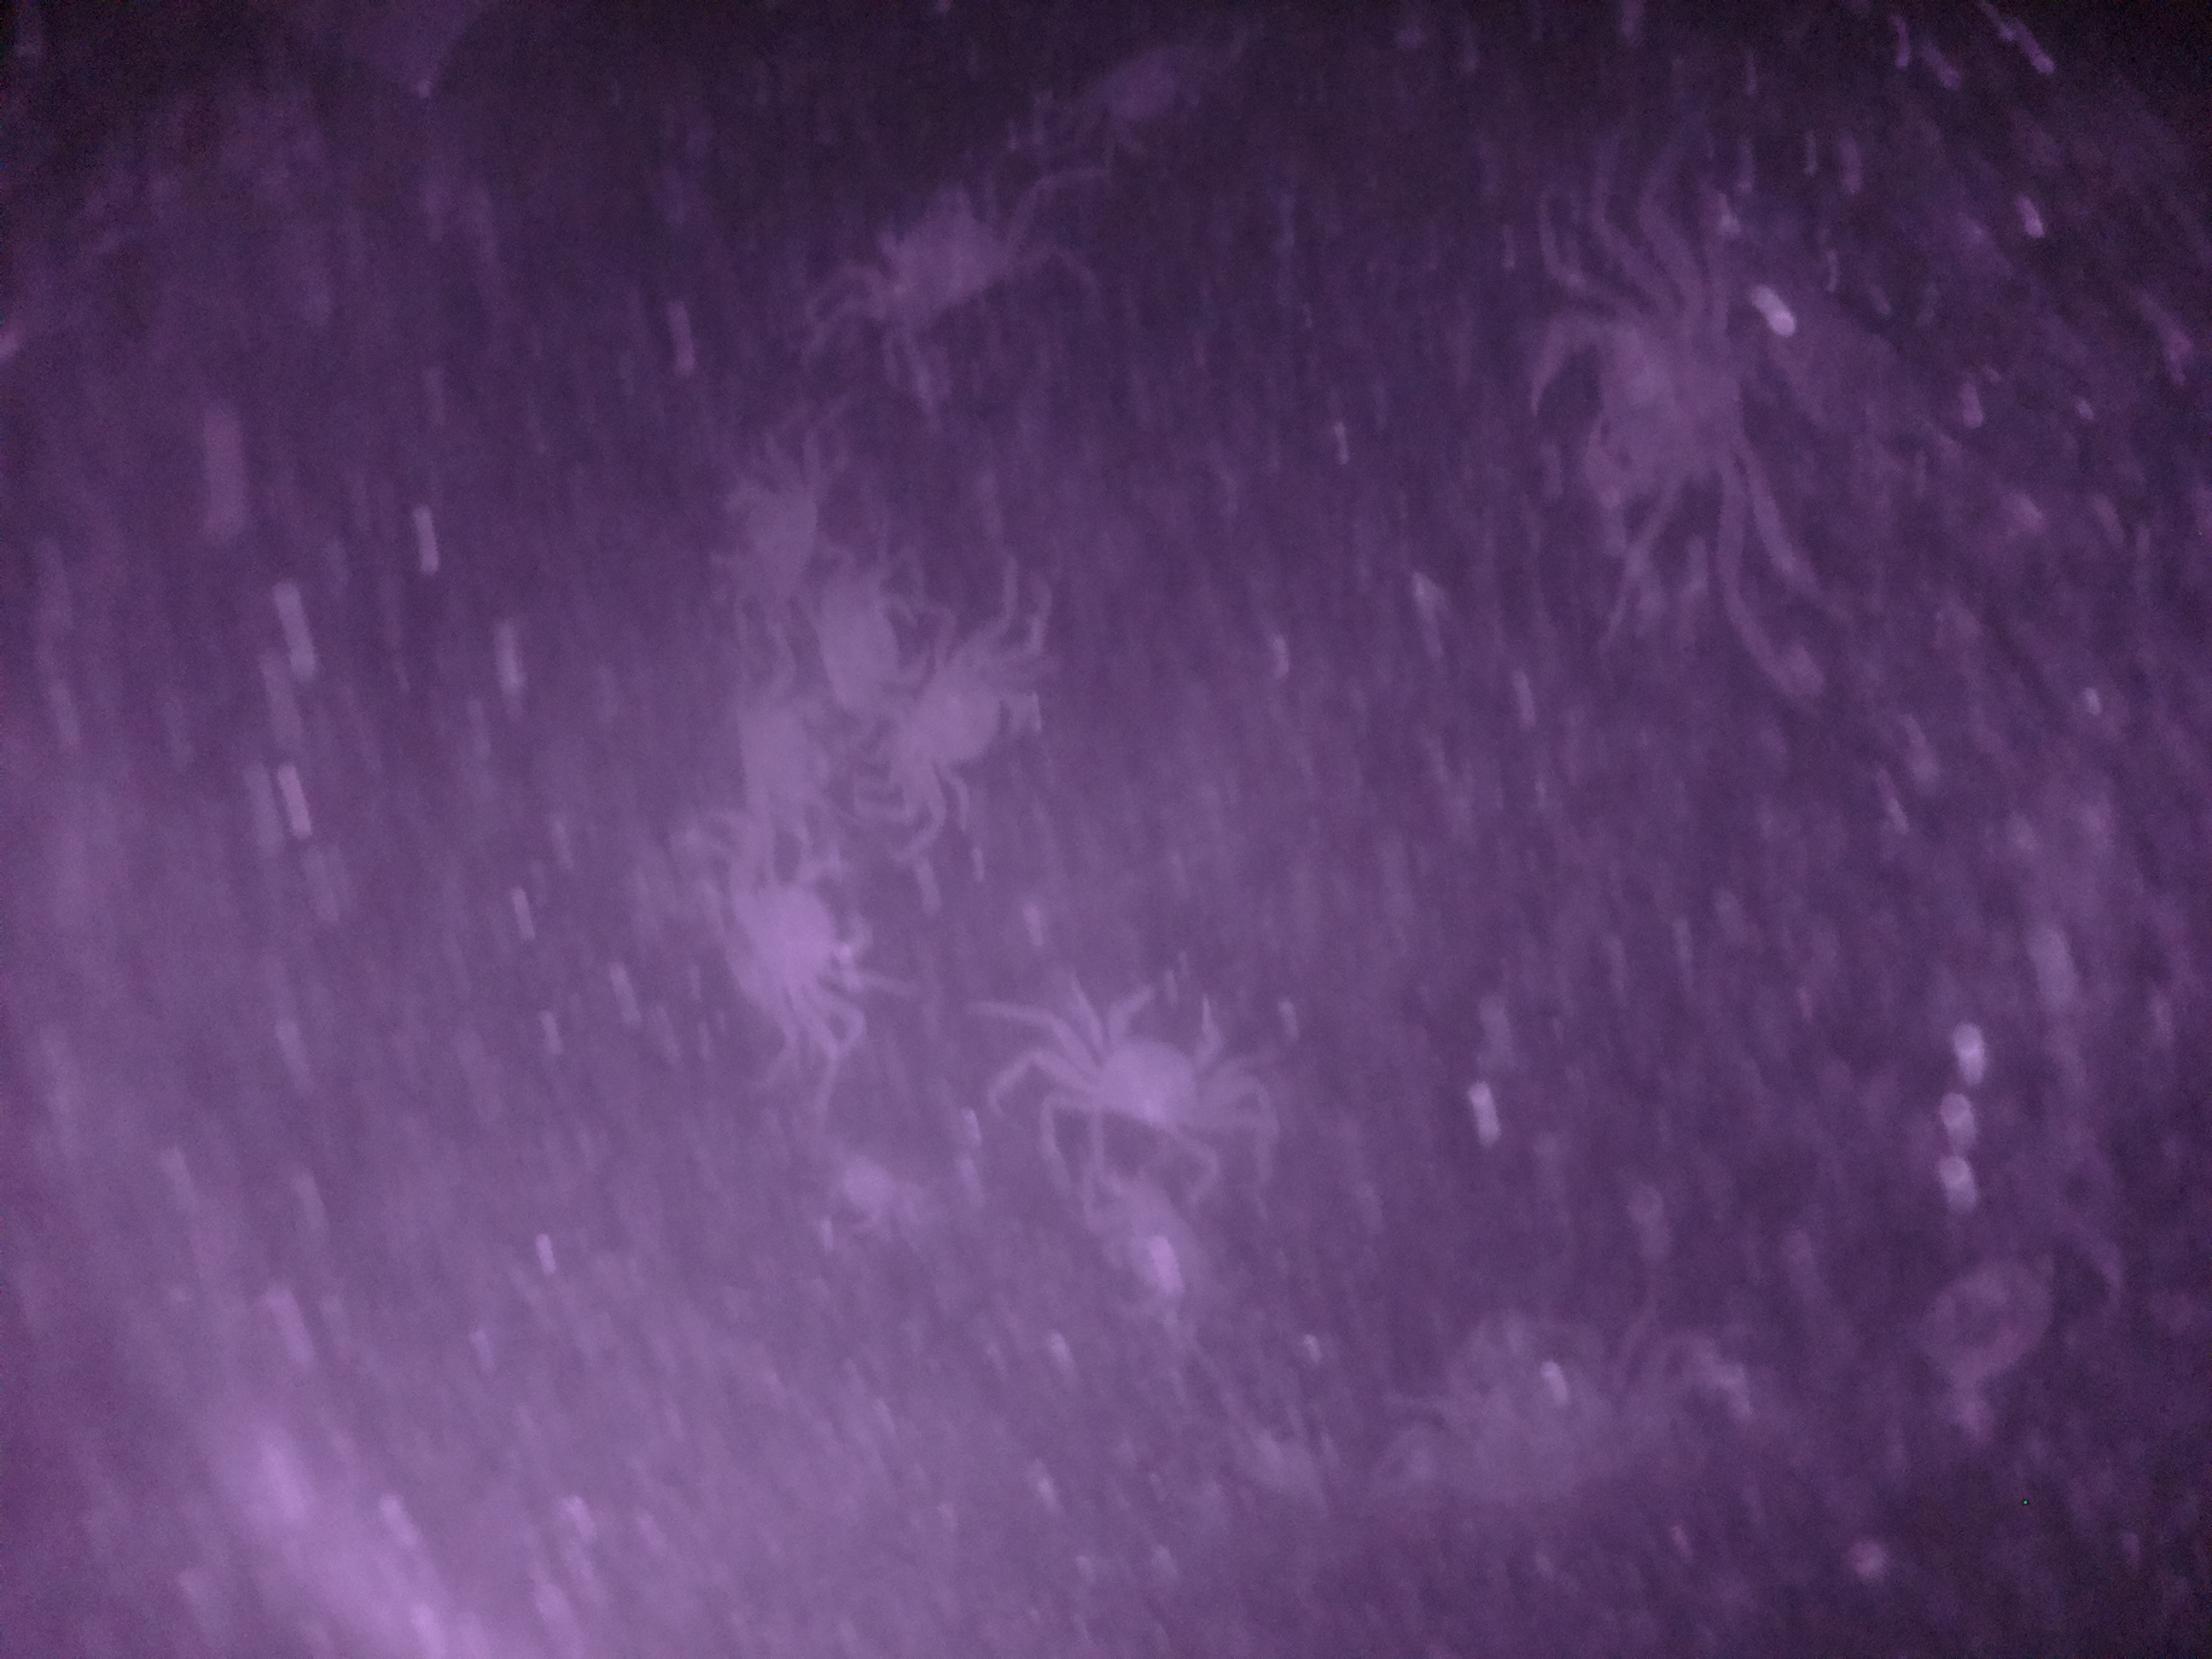Crab: (1493, 263, 1820, 561), (873, 610, 1062, 843), (1049, 972, 1254, 1168), (705, 836, 876, 1051)
